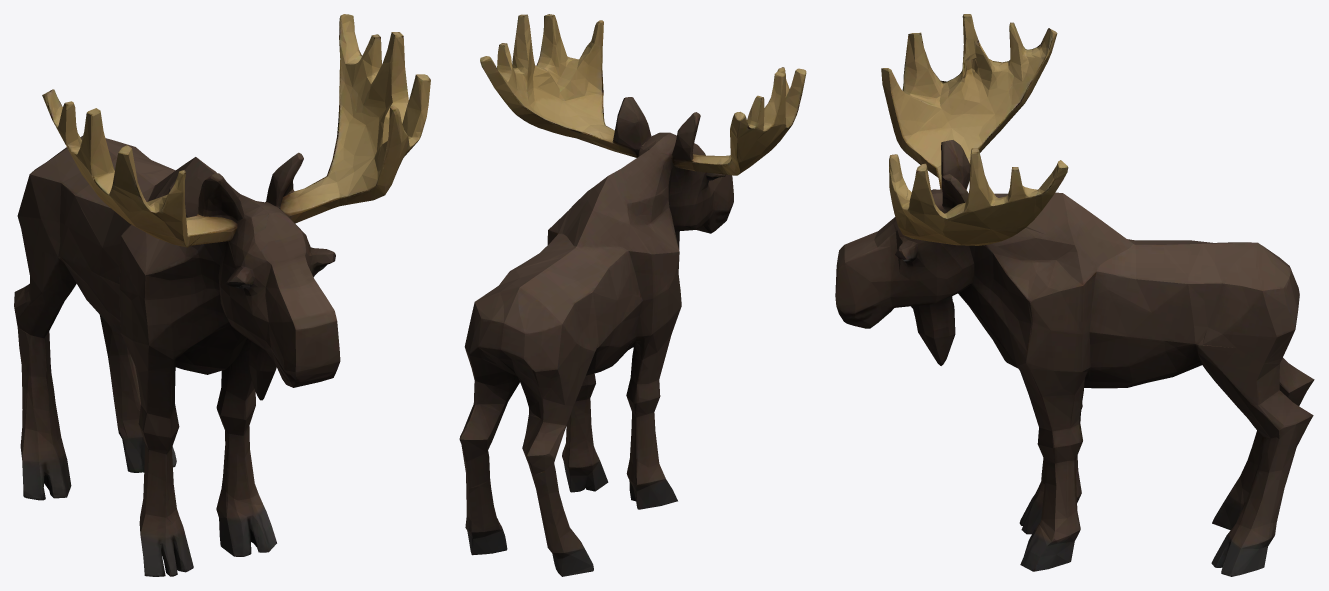
Rendered from moose.glb.
3 views of the same model, side by side, from view 1: azimuth 30°, elevation 25°; view 2: azimuth 150°, elevation 25°; view 3: azimuth 270°, elevation 25° (orthographic). The views are drawn at different scales.
Visible parts, largest first — view 1: world; view 2: world; view 3: world.
Part boxes in pixels (left/top/right/bottom): world: left=14, top=14, right=430, bottom=576; world: left=459, top=14, right=806, bottom=576; world: left=835, top=14, right=1314, bottom=576.
Bounding box in the file's own units: 0.6531 × 0.9978 × 0.938.
1 material, 1 textured.
